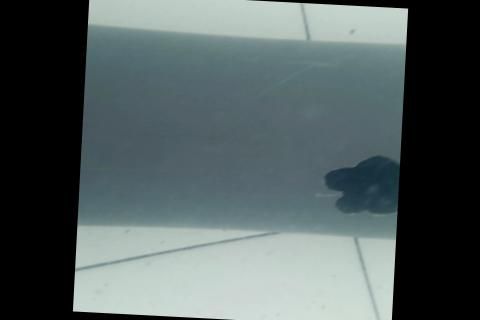kebocoran: (317, 151, 400, 220)
